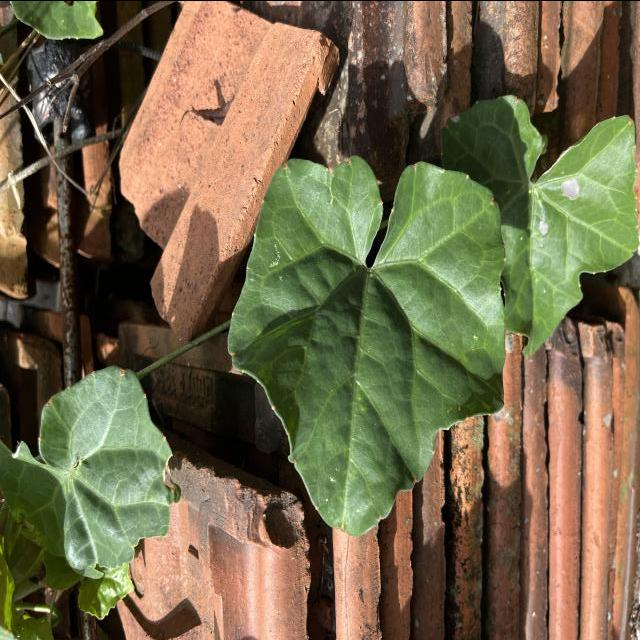Coccinia grandis: (225, 152, 508, 536)
